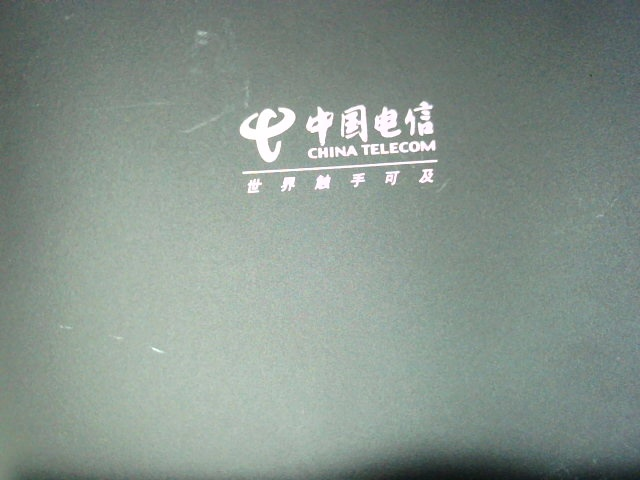AB_ChinaTelecom: (227, 92, 459, 196)
